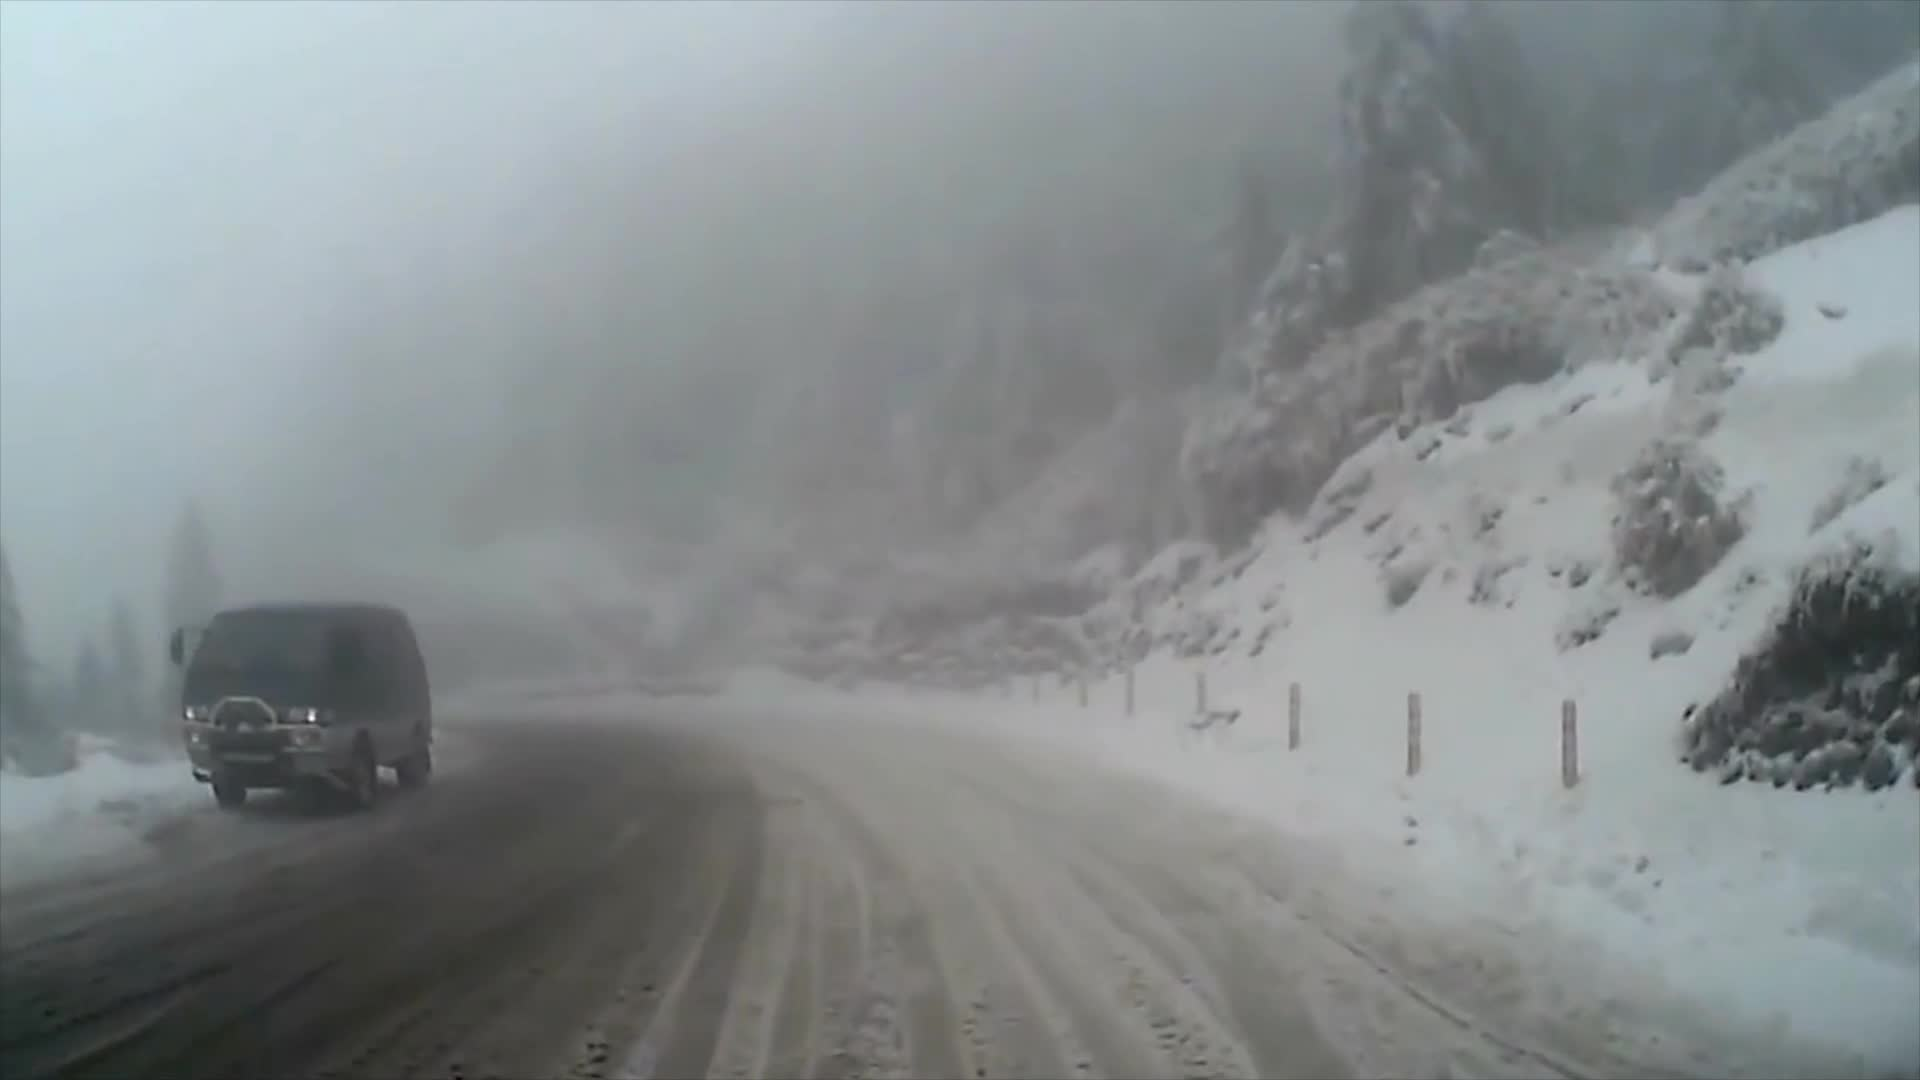vehicle: (158, 599, 427, 814)
